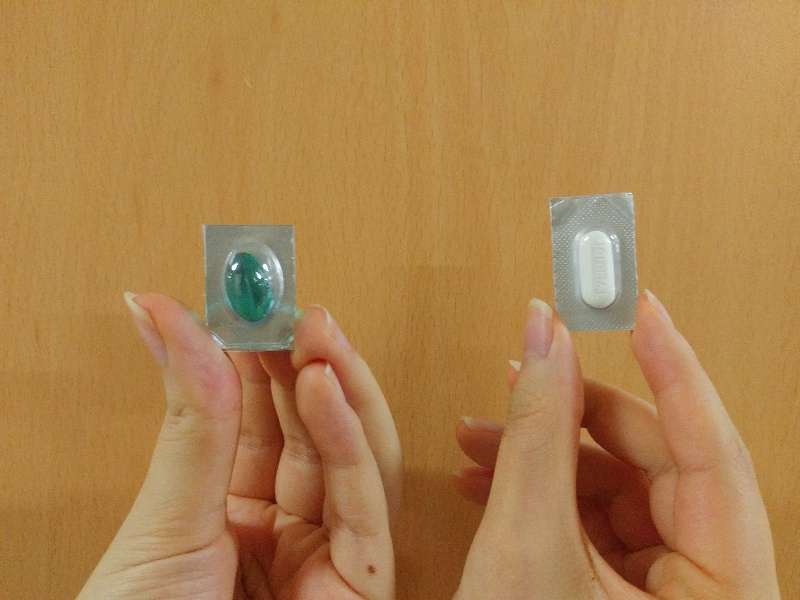pill_ezn: (204, 225, 294, 347)
pill_tylenol: (551, 191, 636, 329)
